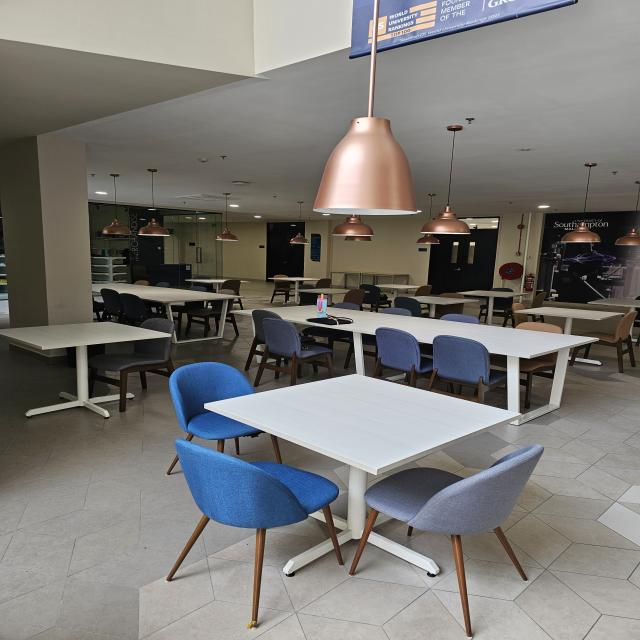obstacle: (156, 382, 535, 602), (244, 303, 592, 402), (12, 317, 175, 411)
